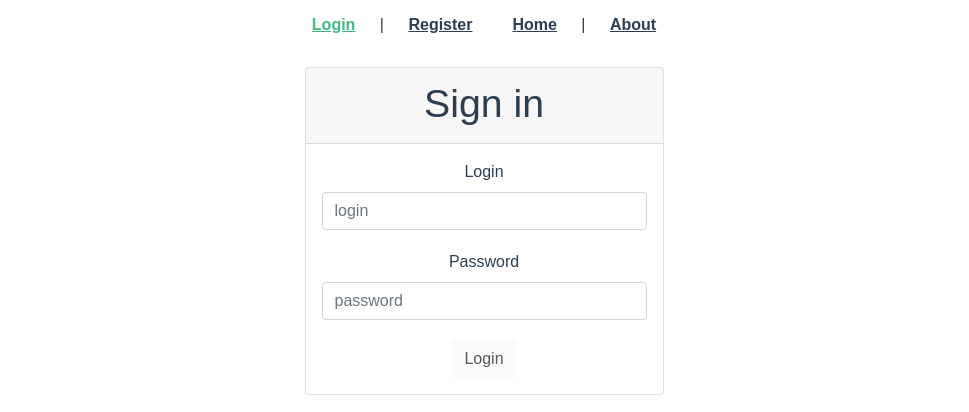
Test case: Test polling page with user=admin › checks voting for some answer in question 1
Type "admin" into the field named "login". click: (485, 211)
box: [322,192,647,230]
Type "admin" into the password field named "password". click: (485, 301)
box: [322,282,647,320]
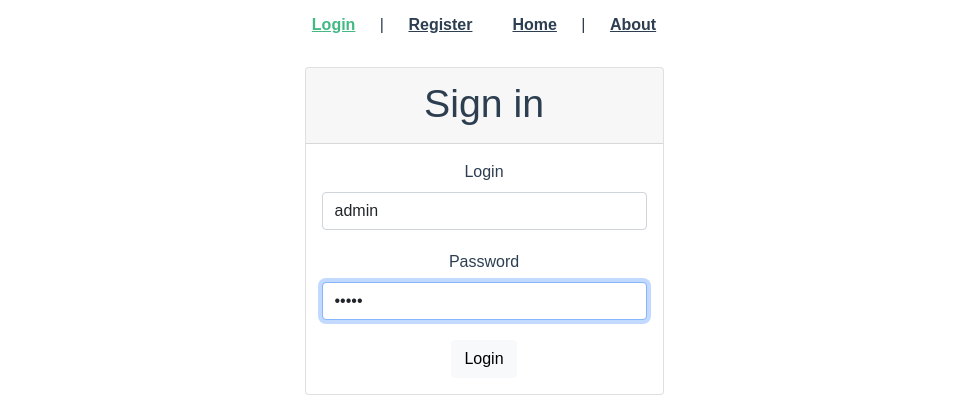
Click the button "Login". click: (484, 359)
box: [451,340,516,378]
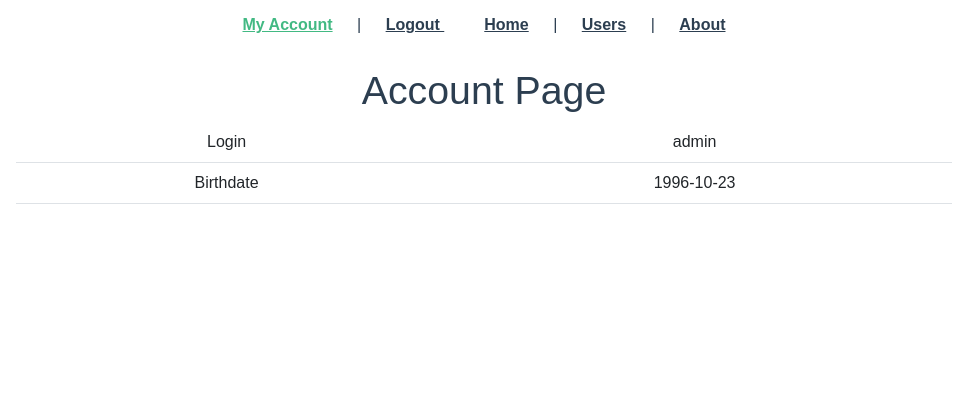
Click the link "Home". click: (507, 25)
box: [484,16,529,33]
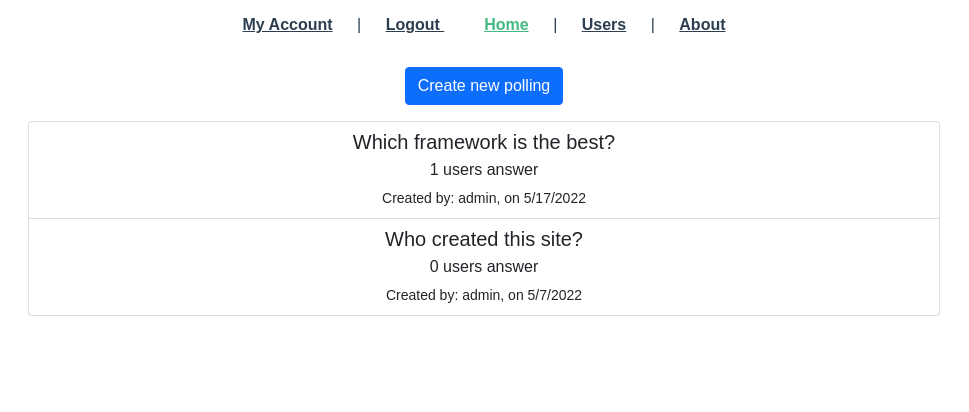
Click the link to "/questions/1". click: (484, 268)
box: [28,219,940,316]
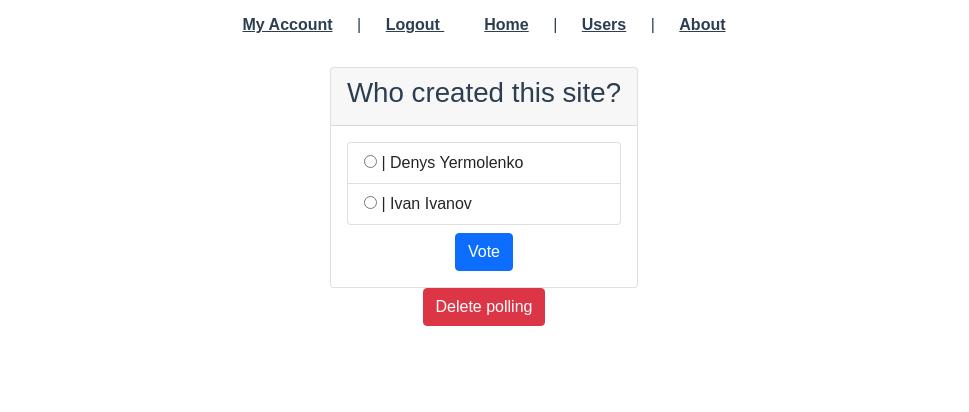
Click the radio button next to "Denys Yermolenko". click: (371, 162)
box: [364,155,377,168]
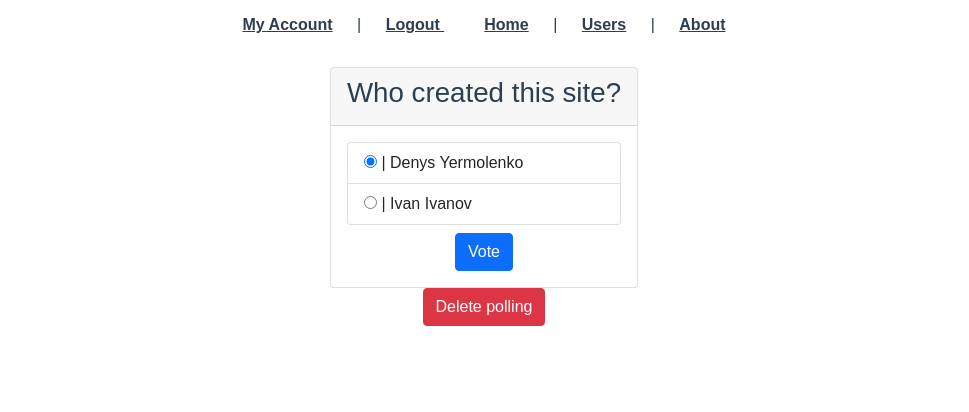
Click the button "Vote". click: (484, 252)
box: [455,233,513,271]
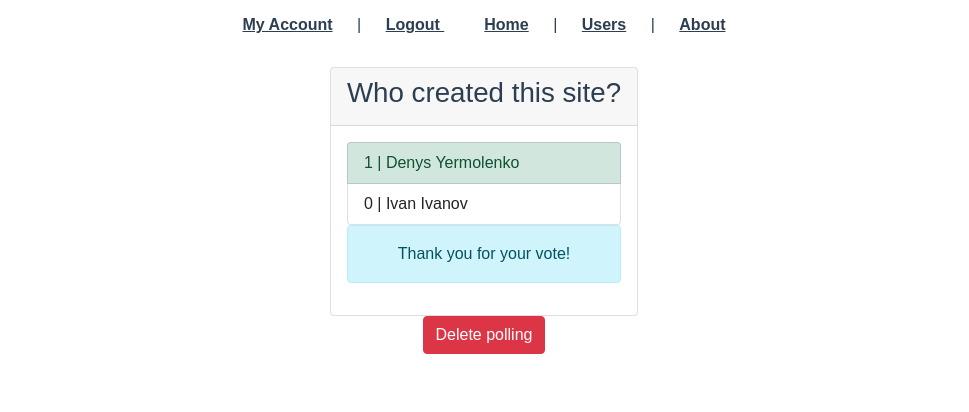
Check: the list item "1 | Denys" is shown, box [347,142,621,184]
Check: the list item "0 | Ivan" is shown, box [347,184,621,225]
Check: the text "Thank you for your vote!" is shown, box [347,225,621,283]
